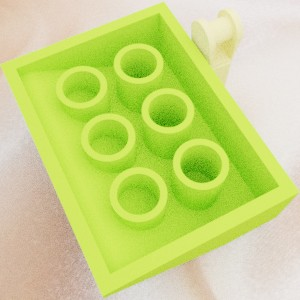lego: (0, 1, 299, 298), (187, 7, 243, 100)
